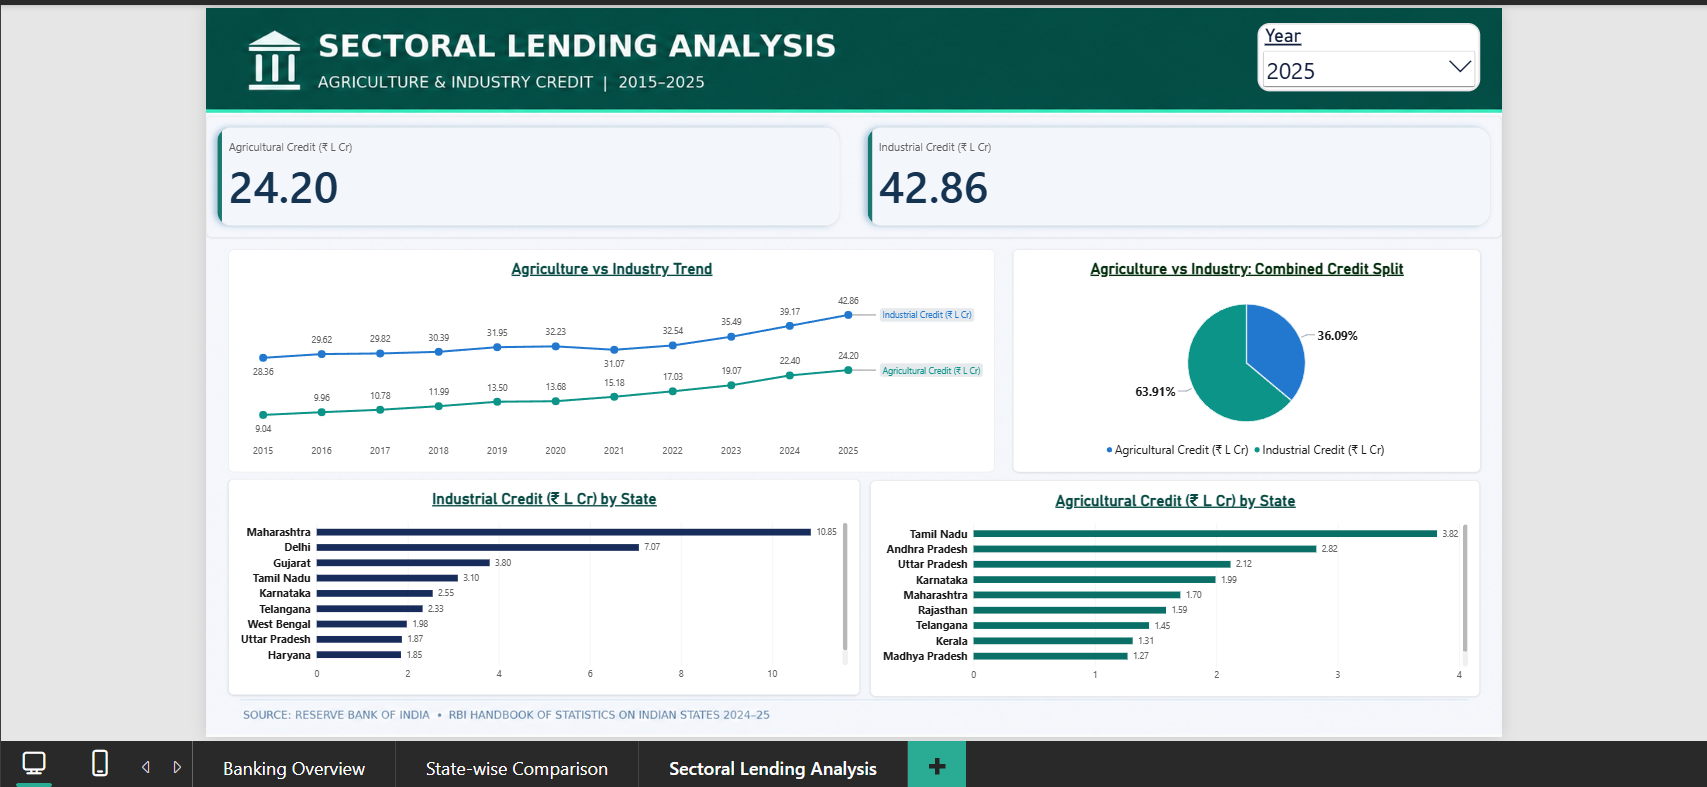

Layout of this report page (visuals, bound fields, positions):
{"tool":"powerbi","page":{"name":"Sectoral Lending Analysis","canvas":[1920,1080],"ordinal":2},"visuals":[{"type":"cardVisual","fields":{"Data":["Fact_Banking.Agricultural Credit (₹ L Cr)","Fact_Banking.Industrial Credit (₹ L Cr)"]},"box":[0,160,1920,180],"z":0},{"type":"lineChart","title":"Agriculture vs Industry Trend","fields":{"Category":["Fact_Banking.Year"],"Y":["Fact_Banking.Industrial Credit (₹ L Cr)","Fact_Banking.Agricultural Credit (₹ L Cr)"]},"box":[32.5,357.5,1135,330],"z":1000},{"type":"slicer","title":"Year","fields":{"Values":["Fact_Banking.Year"]},"box":[1558.4,22,330.2,101.3],"z":2000},{"type":"clusteredBarChart","fields":{"Category":["Fact_Banking.State"],"Y":["Fact_Banking.Industrial Credit (₹ L Cr)"]},"box":[32.5,697.5,935,320],"z":2001},{"type":"clusteredBarChart","fields":{"Category":["Fact_Banking.State"],"Y":["Fact_Banking.Agricultural Credit (₹ L Cr)"]},"box":[985,700,902.5,320],"z":2002},{"type":"pieChart","title":"Agriculture vs Industry: Combined Credit Split","fields":{"Y":["Fact_Banking.Agricultural Credit (₹ L Cr)","Fact_Banking.Industrial Credit (₹ L Cr)"]},"box":[1195,357.5,692.5,330],"z":2003}]}

Visuals, with their boxes on the page's 1920x1080 design canvas (x1, y1, x2, y2). These are canvas units, not pixel positions in the 1707x787 screenshot, which may show the page scaled, cropped or inside an application window:
cardVisual - Fact_Banking.Agricultural Credit (₹ L Cr) x Fact_Banking.Industrial Credit (₹ L Cr): Rect(0, 160, 1920, 340)
"Agriculture vs Industry Trend" lineChart: Rect(32, 358, 1168, 688)
"Year" slicer: Rect(1558, 22, 1889, 123)
clusteredBarChart - Fact_Banking.State x Fact_Banking.Industrial Credit (₹ L Cr): Rect(32, 698, 968, 1018)
clusteredBarChart - Fact_Banking.State x Fact_Banking.Agricultural Credit (₹ L Cr): Rect(985, 700, 1888, 1020)
"Agriculture vs Industry: Combined Credit Split" pieChart: Rect(1195, 358, 1888, 688)
